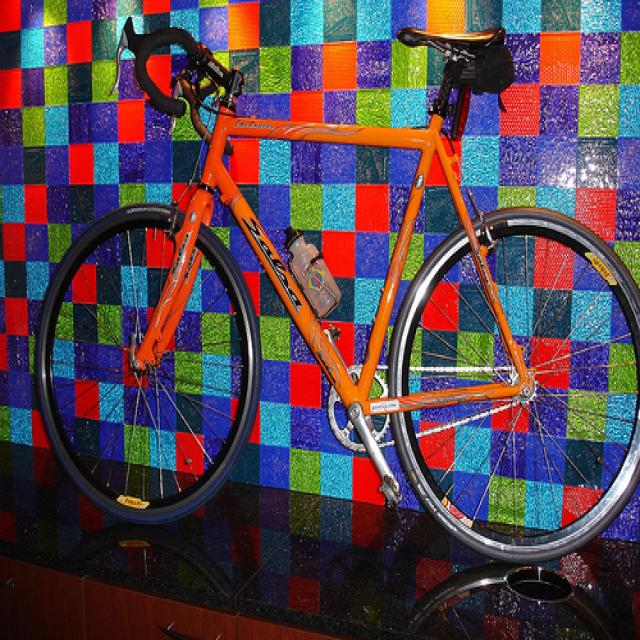bicycle: (34, 17, 640, 565)
